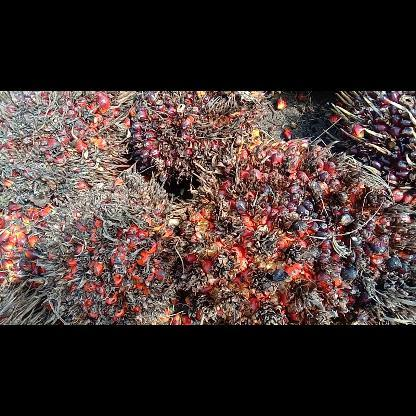Terlalu masak: (178, 136, 416, 324), (28, 166, 192, 324), (0, 90, 136, 212), (126, 91, 270, 189), (323, 91, 415, 211)
